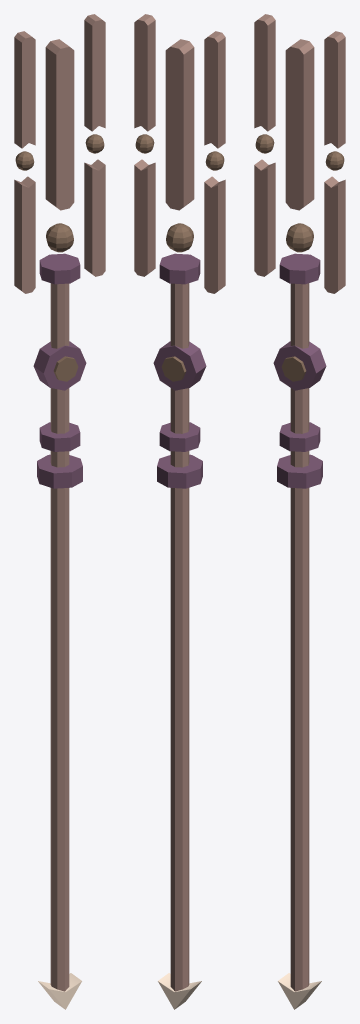
The model's file is cane-19.glb.
The picture shows the model from 3 angles, left to right: view 1: azimuth 30°, elevation 25°; view 2: azimuth 150°, elevation 25°; view 3: azimuth 330°, elevation 25°; orthographic projection.
Visible parts, largest first — view 1: cane_19; view 2: cane_19; view 3: cane_19.
Boxes of the visible parts, box(x1,y1,x2,y2) form: cane_19: box(14, 14, 105, 1009); cane_19: box(134, 14, 225, 1009); cane_19: box(254, 14, 345, 1009).
Bounding box in the file's own units: 17.79 × 191 × 8.44.
Materials: 1 (1 with a texture image).
